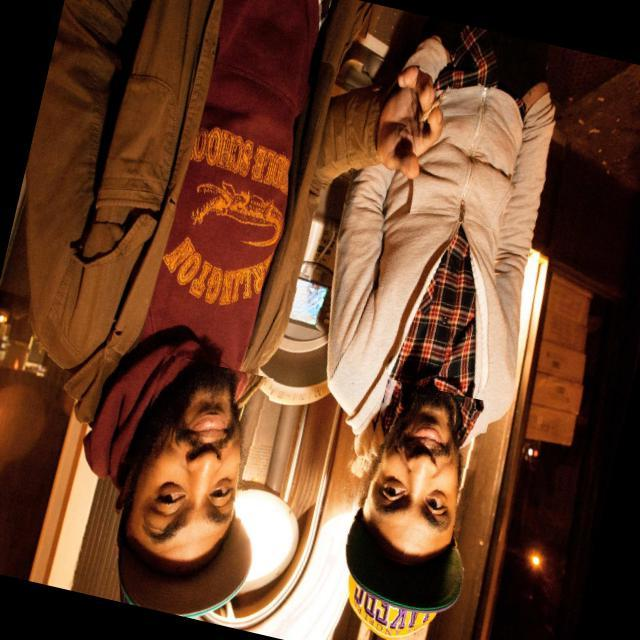cigarette: (405, 60, 464, 144)
